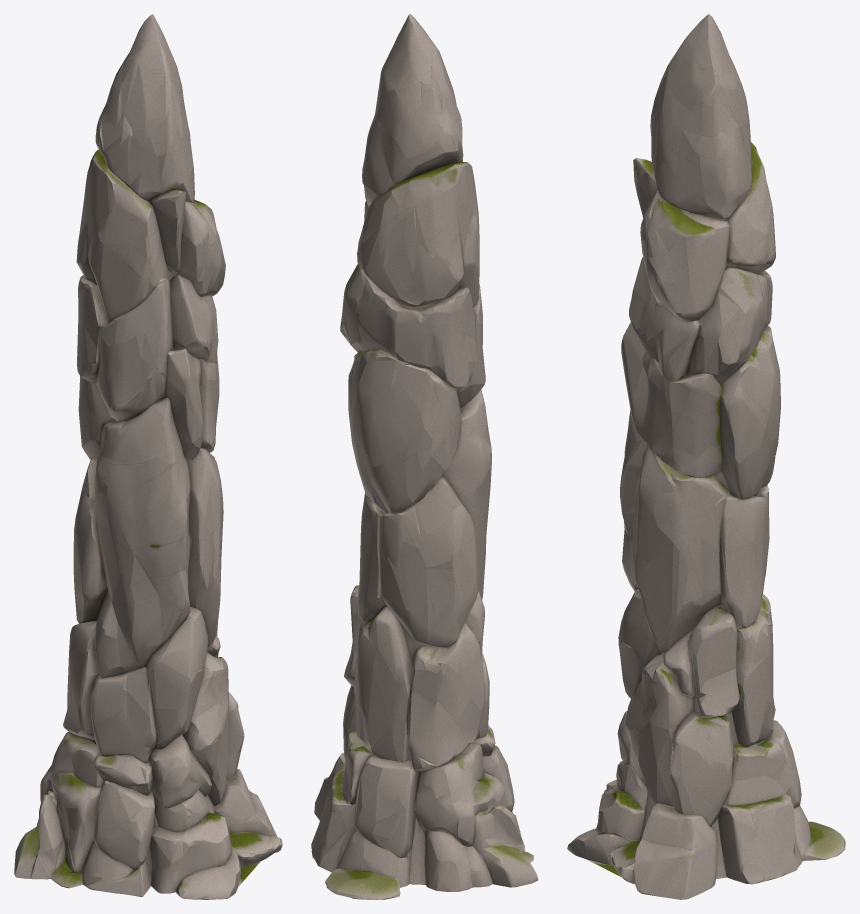
File: rock_spire2.glb
3 views of the same model, side by side, from view 1: azimuth 30°, elevation 25°; view 2: azimuth 150°, elevation 25°; view 3: azimuth 270°, elevation 25° (orthographic).
Size of the model in its own units: 0.5748 by 1.9 by 0.5764.
1 material, 1 textured.
